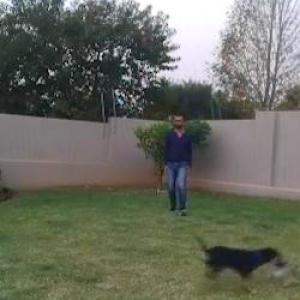follow: (162, 108, 194, 220)
